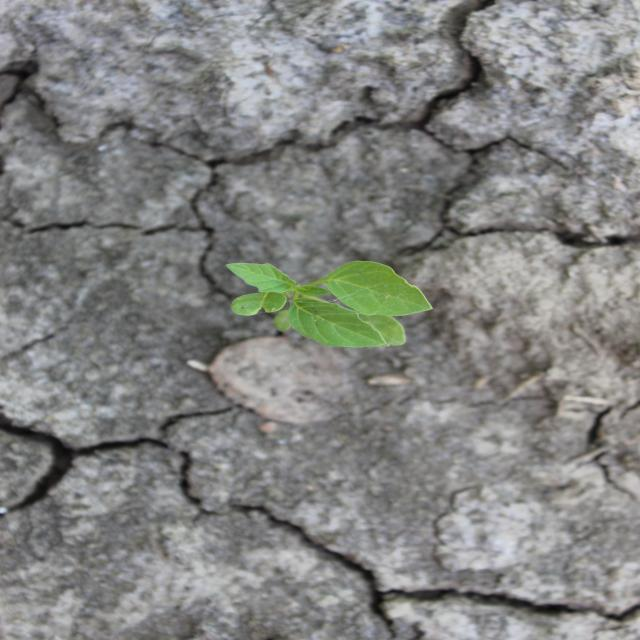CutleafGroundcherry: (220, 258, 438, 352)
